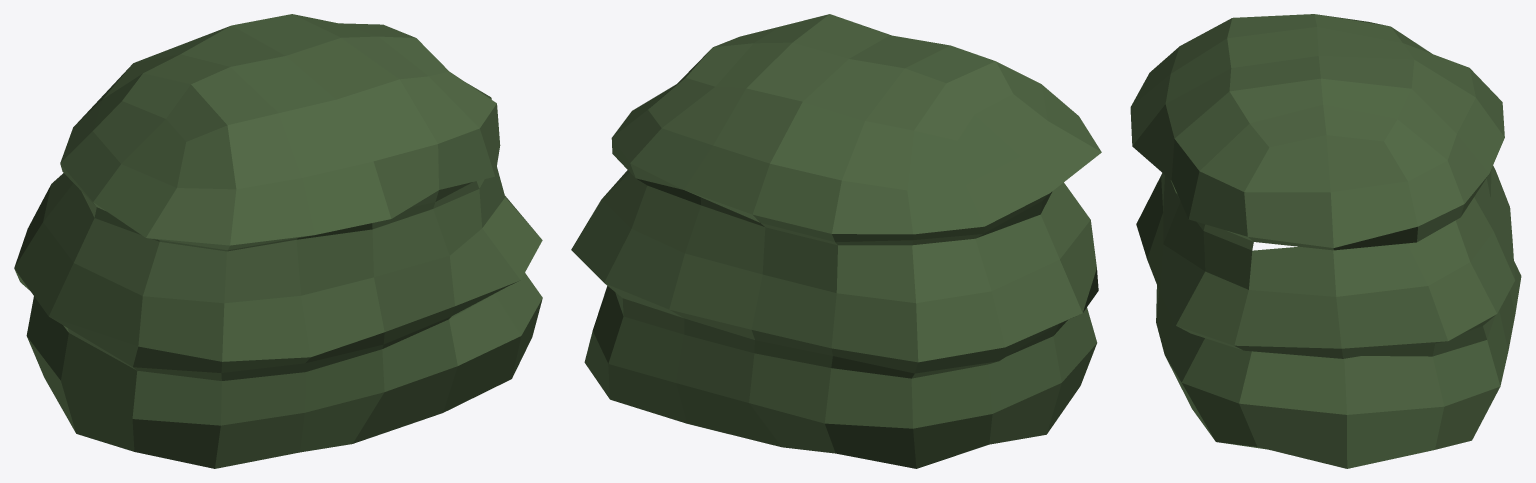
The model's file is BushBerries_Harvested.glb.
3 renders of one model, left to right at view 1: azimuth 30°, elevation 25°; view 2: azimuth 150°, elevation 25°; view 3: azimuth 270°, elevation 25°, orthographic. The views are drawn at different scales.
Parts seen in each view (by area): view 1: BushBerries_Harvested; view 2: BushBerries_Harvested; view 3: BushBerries_Harvested.
Part boxes in pixels (left/top/right/bottom): BushBerries_Harvested: left=14, top=14, right=542, bottom=468; BushBerries_Harvested: left=571, top=14, right=1101, bottom=468; BushBerries_Harvested: left=1130, top=14, right=1521, bottom=468.
Bounding box in the file's own units: 1.72 × 1.25 × 1.32.
